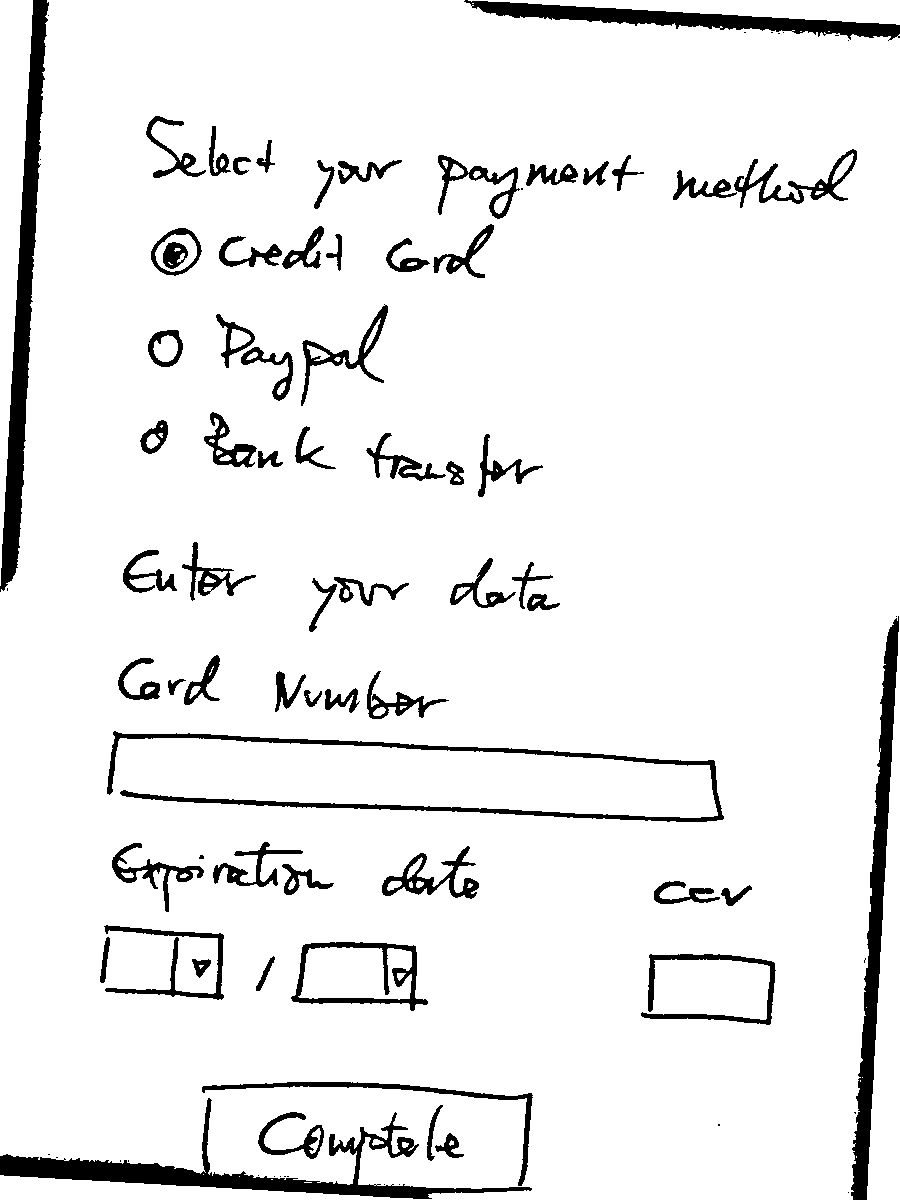Button: (189, 1074, 542, 1189)
Radio Button: (147, 213, 349, 291)
Select: (98, 914, 227, 1002), (291, 936, 427, 1007)
Textbox: (100, 725, 729, 829), (638, 943, 775, 1029)
